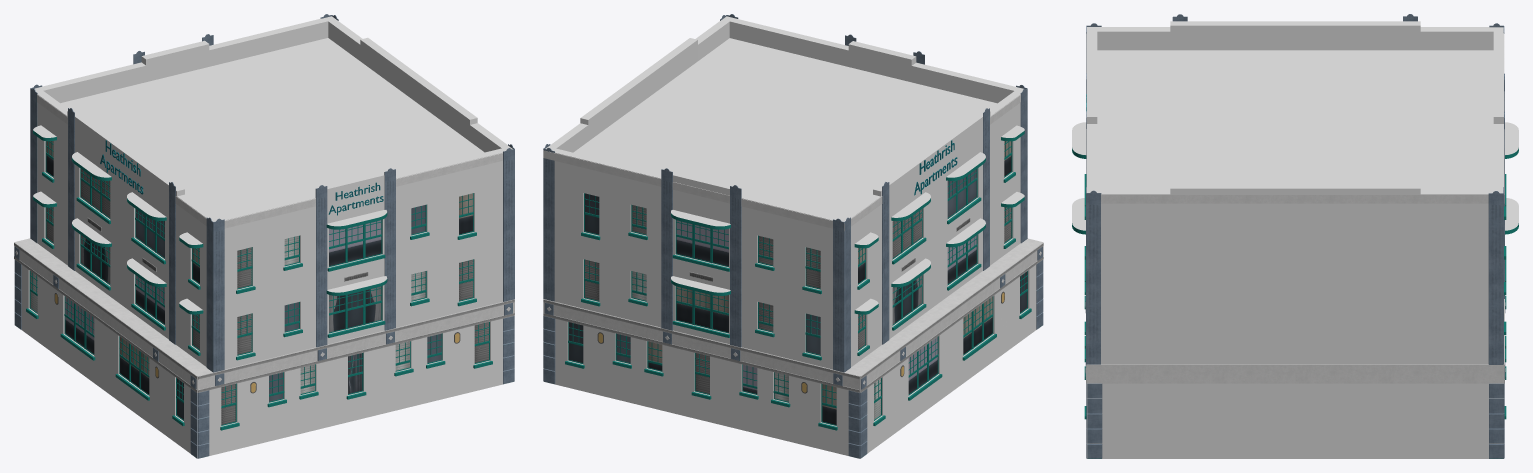
File: MB_Heathrish_Apartments.fbx
3 views of the same model, side by side, from view 1: azimuth 30°, elevation 25°; view 2: azimuth 150°, elevation 25°; view 3: azimuth 270°, elevation 25° (orthographic). The views are drawn at different scales.
Visible parts, largest first — view 1: MB_Heathrish_Apartments_LOD0; view 2: MB_Heathrish_Apartments_LOD0; view 3: MB_Heathrish_Apartments_LOD0.
Boxes of the visible parts, left/top/right/bottom form: MB_Heathrish_Apartments_LOD0: left=14, top=14, right=514, bottom=458; MB_Heathrish_Apartments_LOD0: left=543, top=14, right=1043, bottom=458; MB_Heathrish_Apartments_LOD0: left=1072, top=14, right=1518, bottom=458.
Size of what is drawn, in the model's own units: 2016 by 1470 by 2144.
